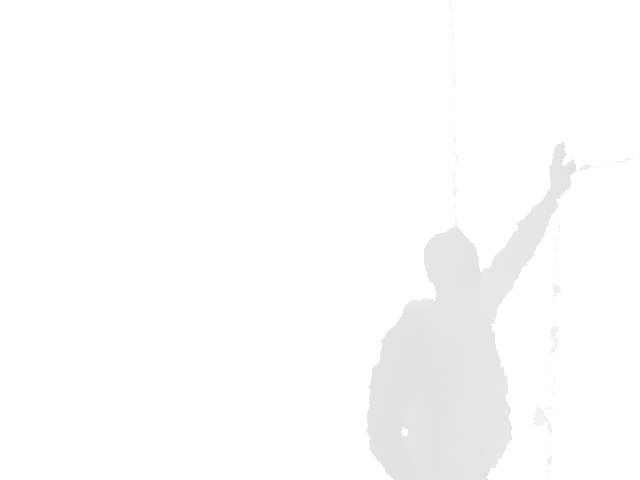hand: (548, 141, 578, 197)
head: (422, 226, 482, 294)
person: (365, 141, 578, 480)
